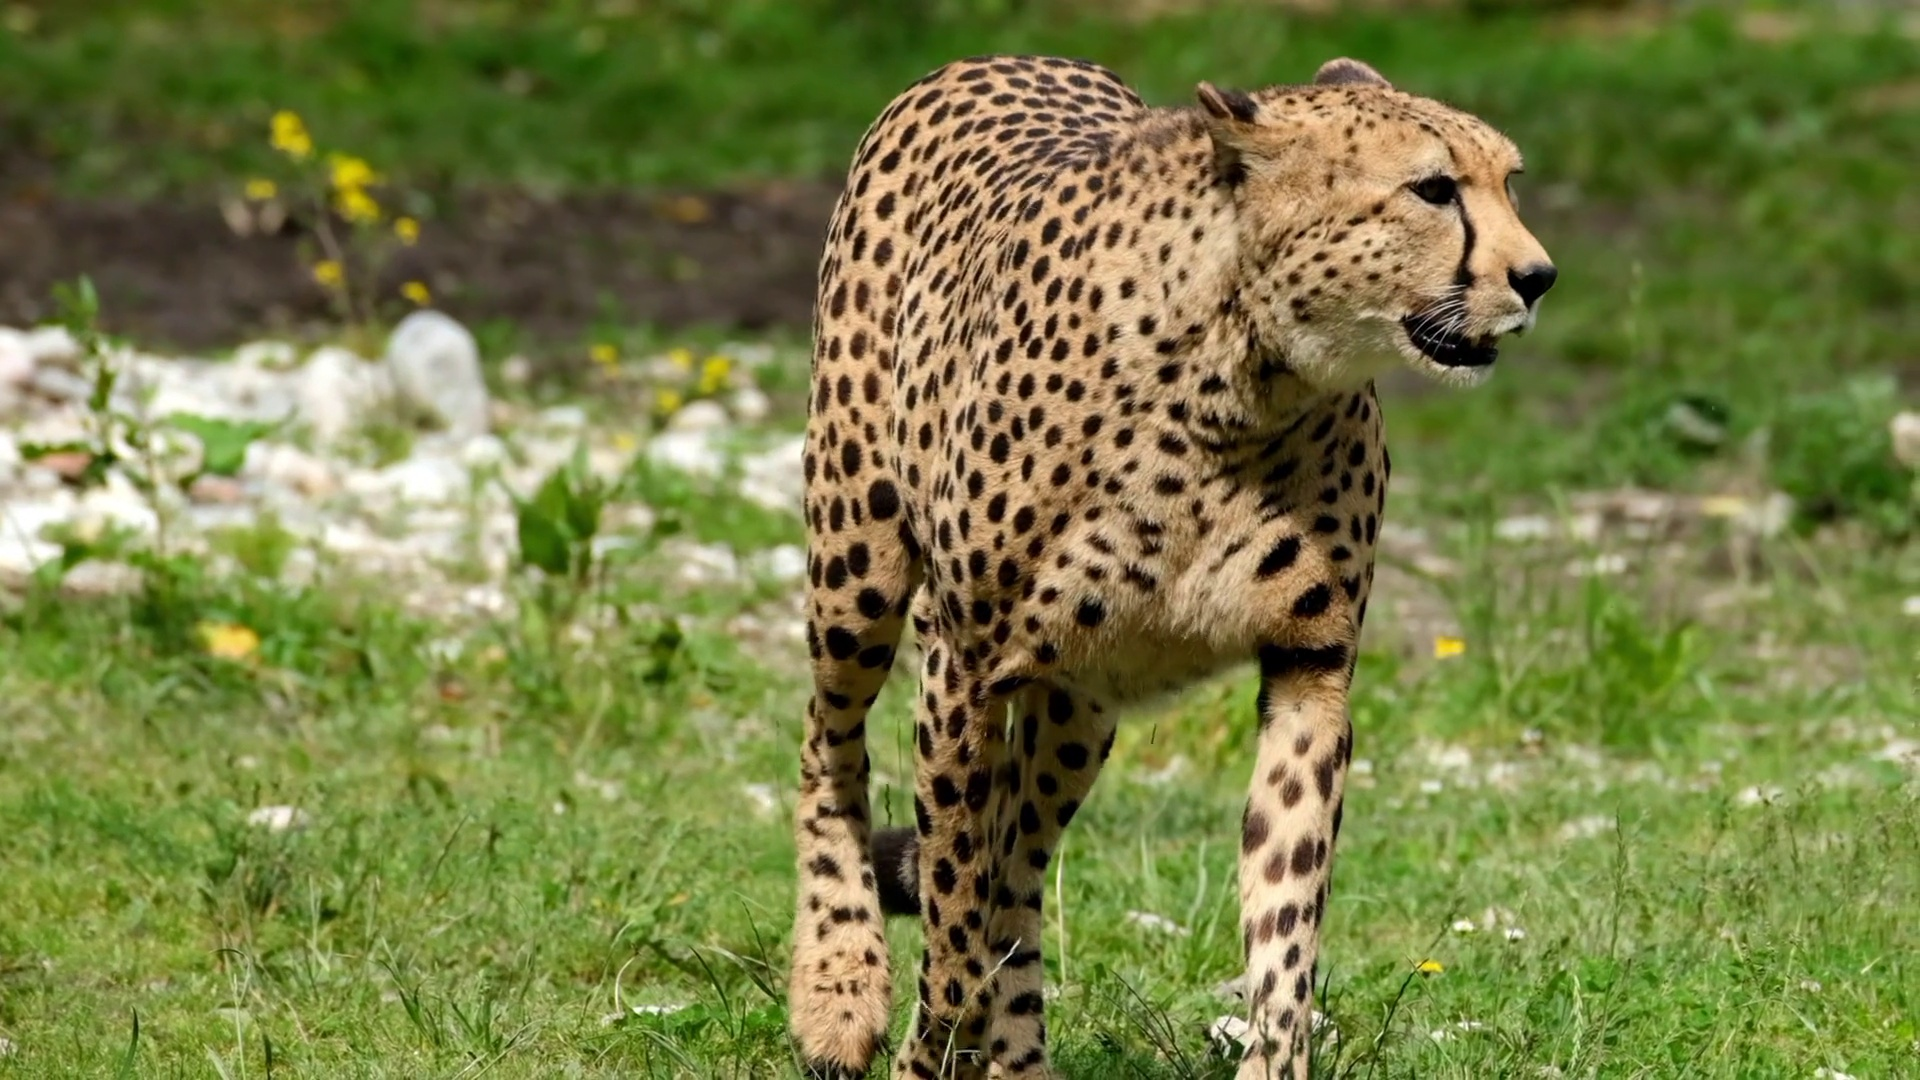Cheetah: (779, 49, 1565, 1080)
